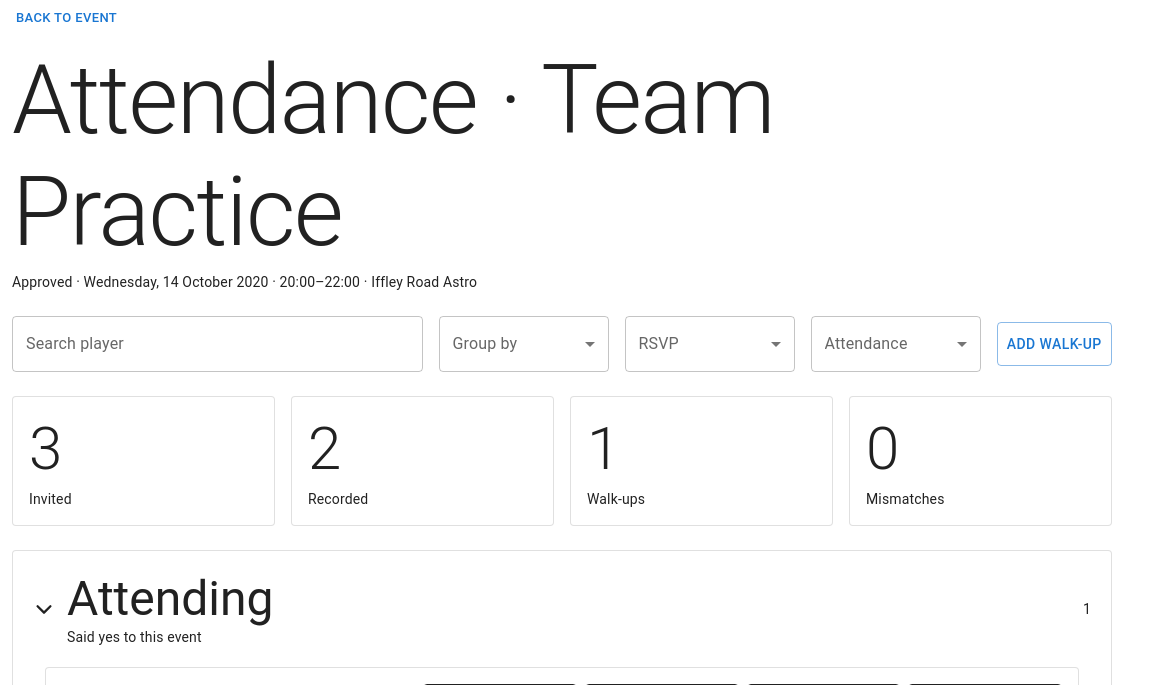
Test: LAN-497 — Group by › offers None and only the families the board says the viewer may see
Press the mouse on the dropdown named "Group by" next to "Group by" at (524, 344), box left=438, top=316, right=608, bottom=372
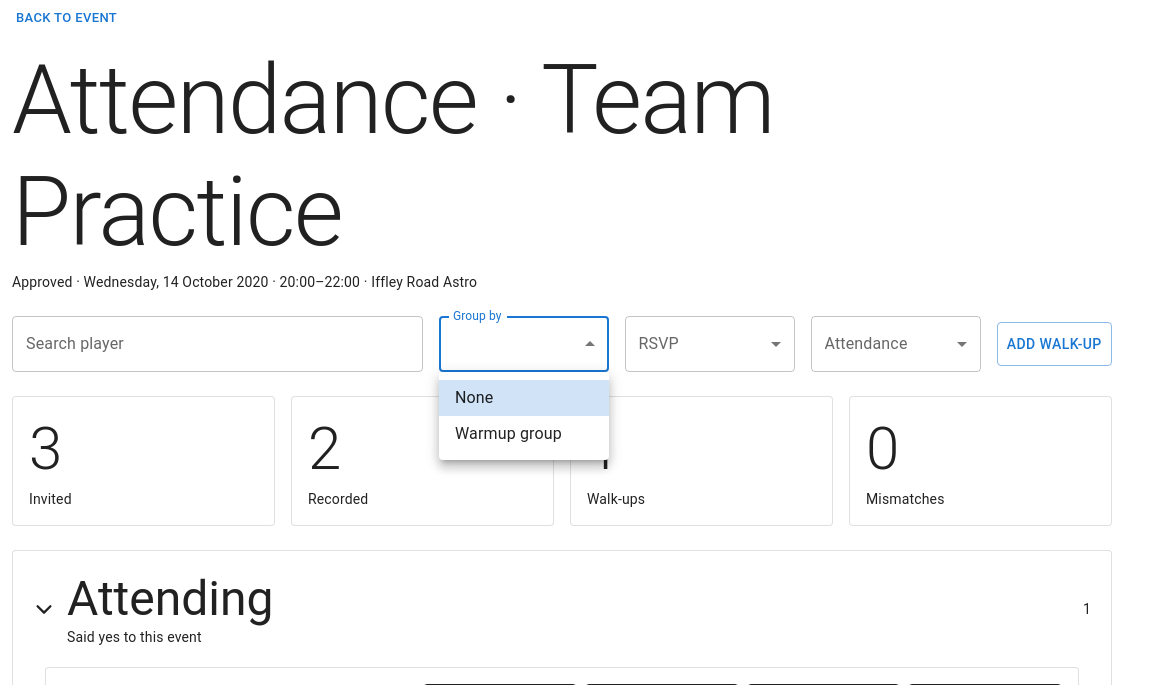
Result: the options read "None", "Warmup group", in this order at left=439, top=380, right=609, bottom=416; left=455, top=424, right=562, bottom=443
